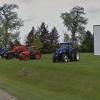Tractor: (48, 31, 84, 63)
